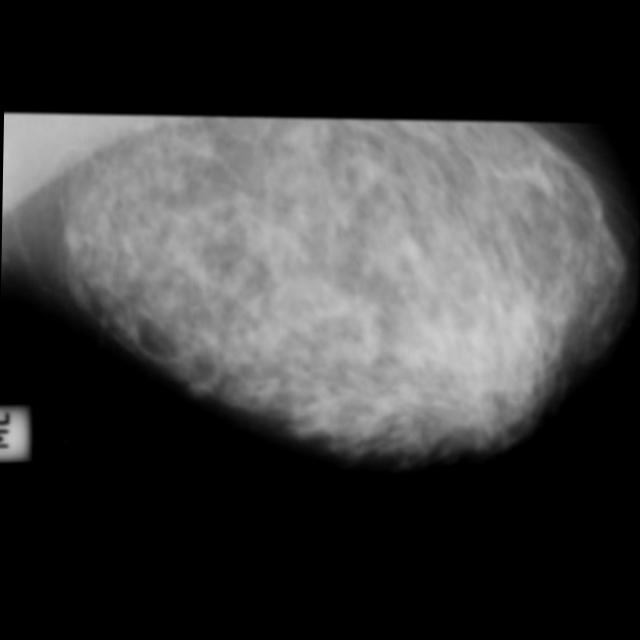ARCH: (280, 119, 316, 155)
